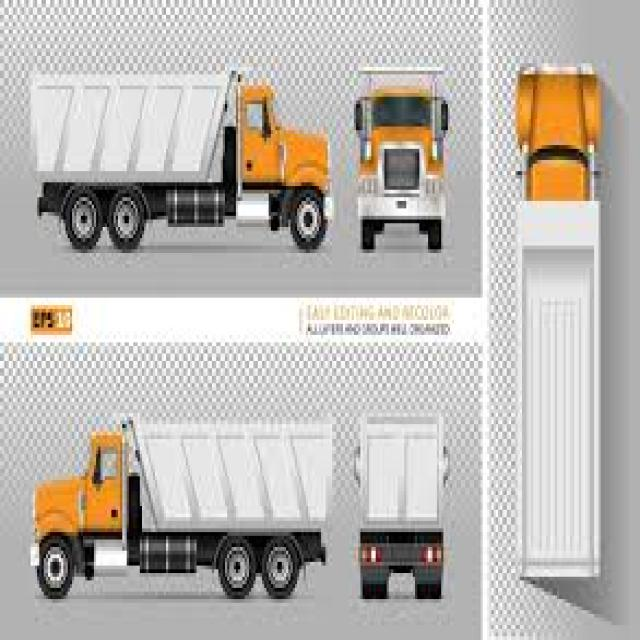truck: (31, 418, 333, 601), (512, 55, 602, 577)
